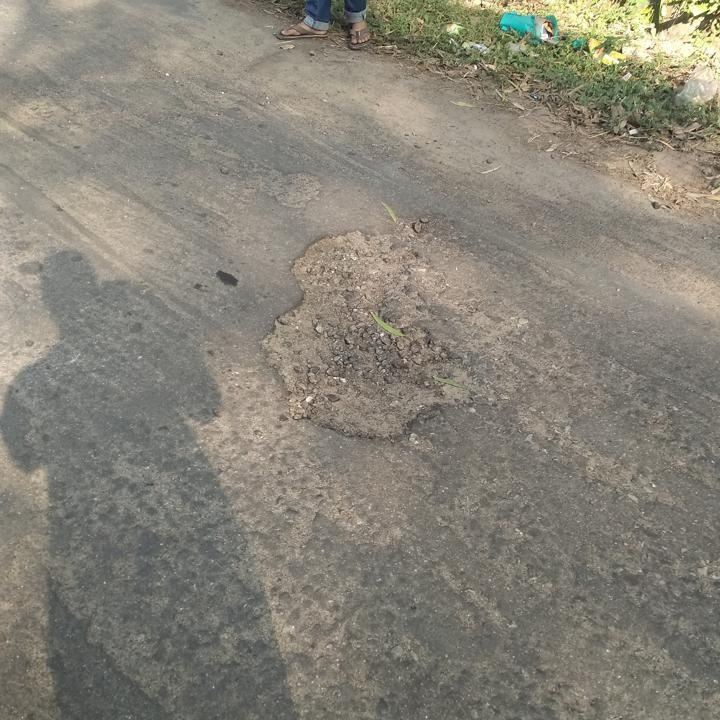pothole: (254, 219, 481, 447), (258, 167, 324, 211)
